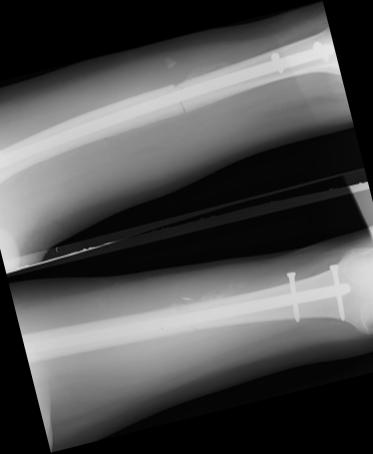fractured: (169, 82, 190, 115), (179, 302, 200, 333)
